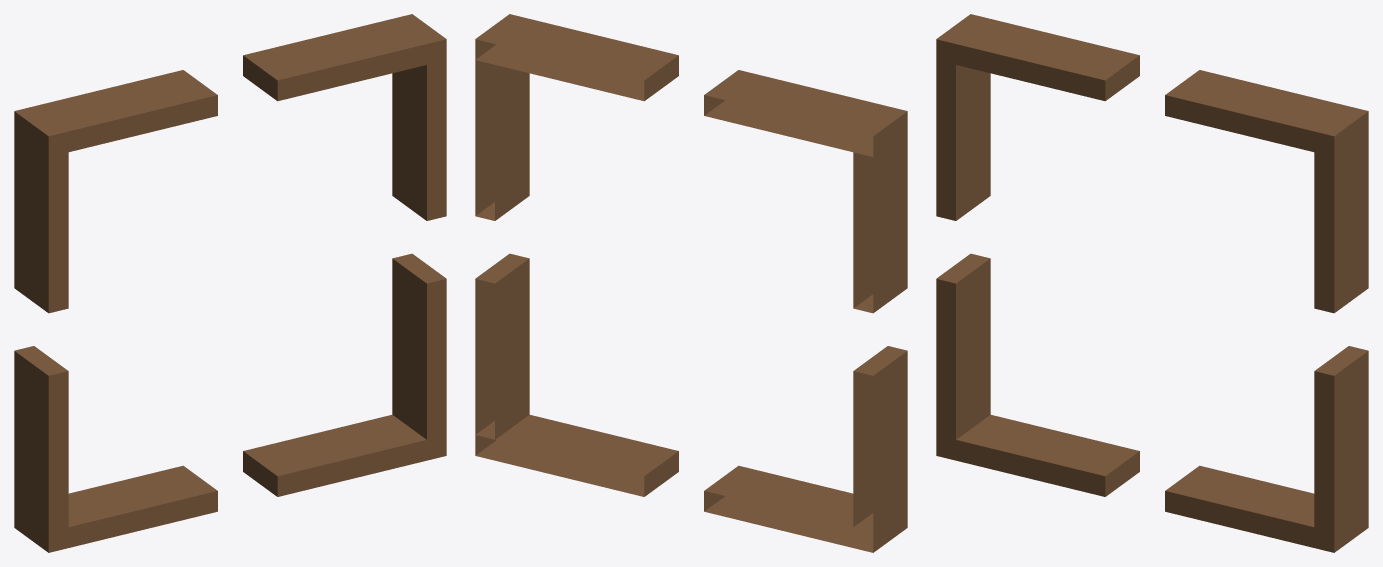
Rendered from construction_0.glb.
3 renders of one model, left to right at view 1: azimuth 30°, elevation 25°; view 2: azimuth 150°, elevation 25°; view 3: azimuth 330°, elevation 25°, orthographic.
Visible parts, largest first — view 1: construction_0; view 2: construction_0; view 3: construction_0.
Part boxes in pixels (<box>): construction_0: <box>14,14,446,552</box>; construction_0: <box>475,14,907,552</box>; construction_0: <box>936,14,1368,552</box>.
Bounding box in the file's own units: 12 × 12 × 1.8.
